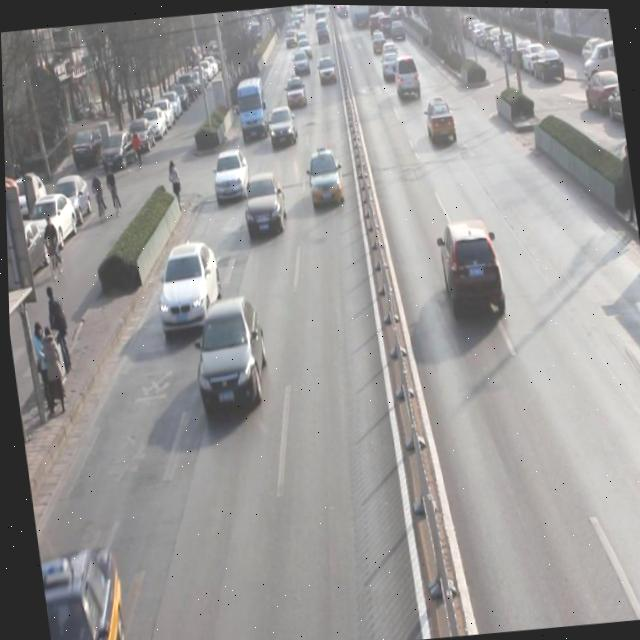car: (188, 296, 272, 418), (432, 213, 508, 324), (151, 243, 224, 332), (239, 173, 289, 241), (303, 148, 346, 213), (208, 146, 251, 203), (423, 93, 457, 144), (266, 106, 299, 152), (281, 73, 307, 112), (315, 54, 338, 87), (290, 48, 311, 79)
truck: (232, 73, 272, 145), (392, 54, 421, 100)
